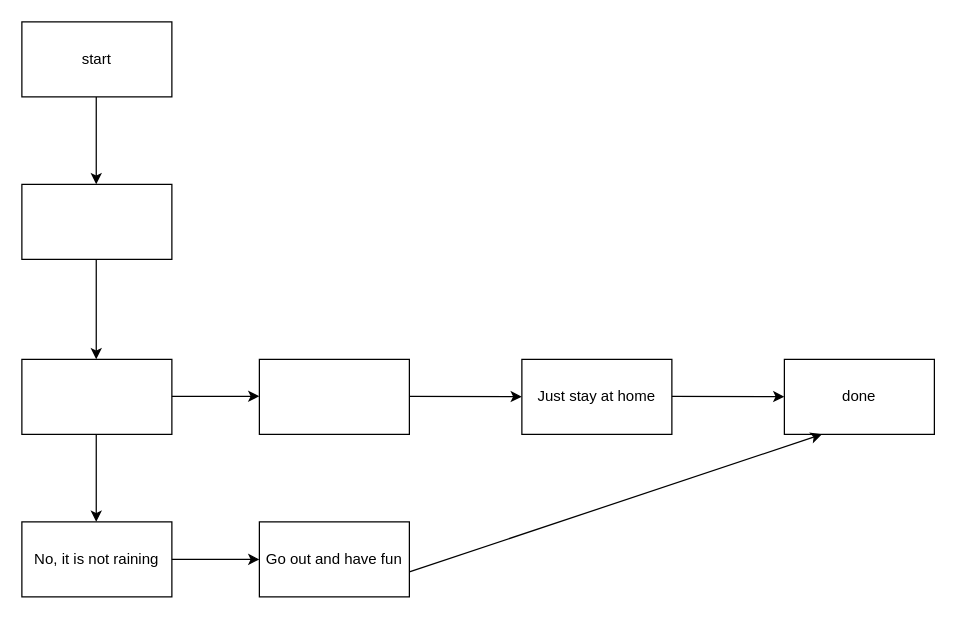
Image size: 956x619. Some labels were removed from this diagram. The shapes that lost their labels are listed below. From the top down, each one's box as (x1, y1, x2, y2) in pixels, then its label:
(21, 183, 172, 259): Should we go out, yes or no?
(21, 358, 172, 434): if it is raining?
(258, 358, 409, 434): Yes. it is raining
